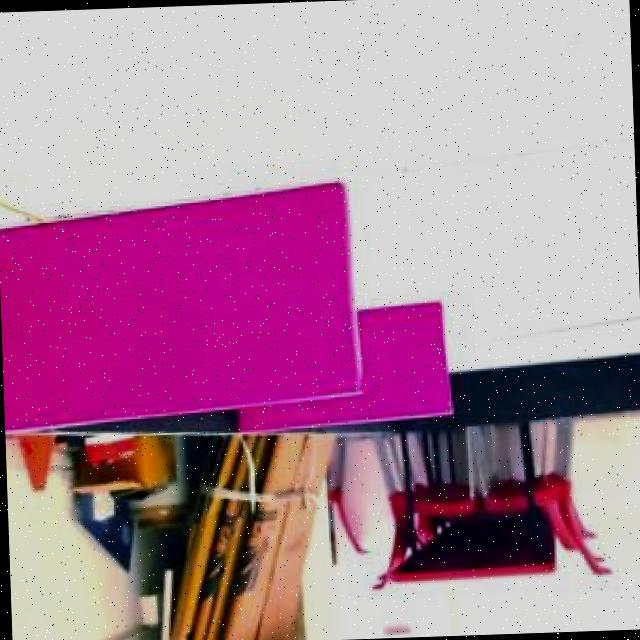xparking: (0, 192, 354, 399), (358, 310, 450, 417)
